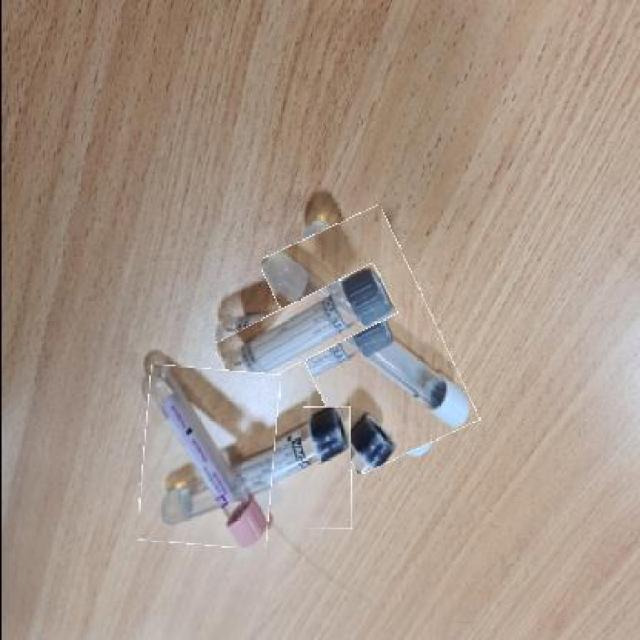Experimental-tube: (280, 213, 457, 467), (138, 368, 274, 548), (163, 407, 349, 530), (212, 283, 396, 375)
